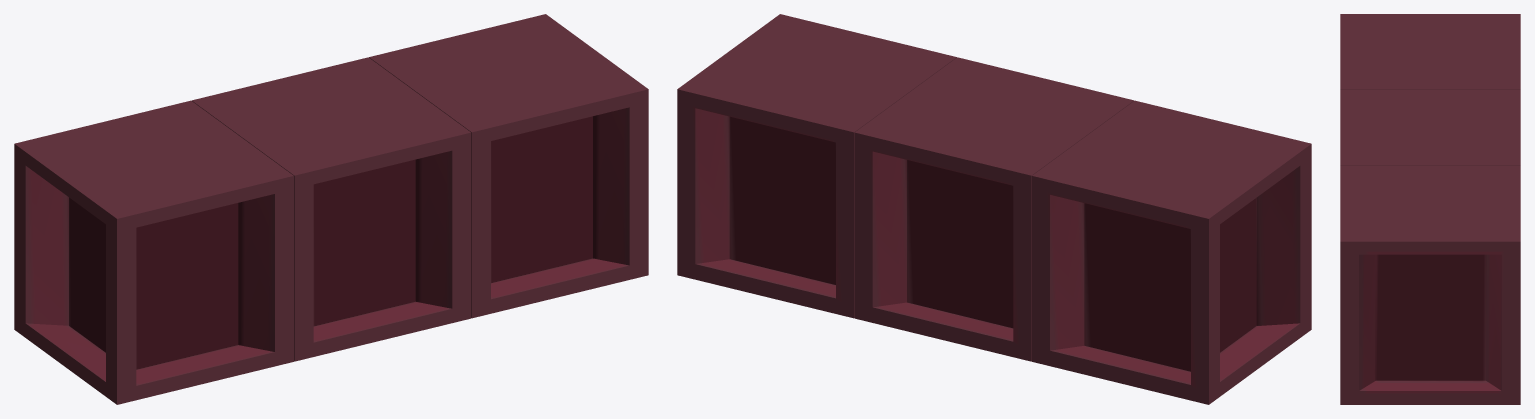
File: Defence1x3.obj
3 renders of one model, left to right at view 1: azimuth 30°, elevation 25°; view 2: azimuth 150°, elevation 25°; view 3: azimuth 270°, elevation 25°, orthographic. The views are drawn at different scales.
Parts seen in each view (by area): view 1: Defence.001; view 2: Defence.001; view 3: Defence.001.
Boxes of the visible parts, <box> form: Defence.001: <box>14,14,648,404</box>; Defence.001: <box>677,14,1311,404</box>; Defence.001: <box>1340,14,1520,404</box>.
Bounding box in the file's own units: 23.97 × 8.02 × 8.03.
